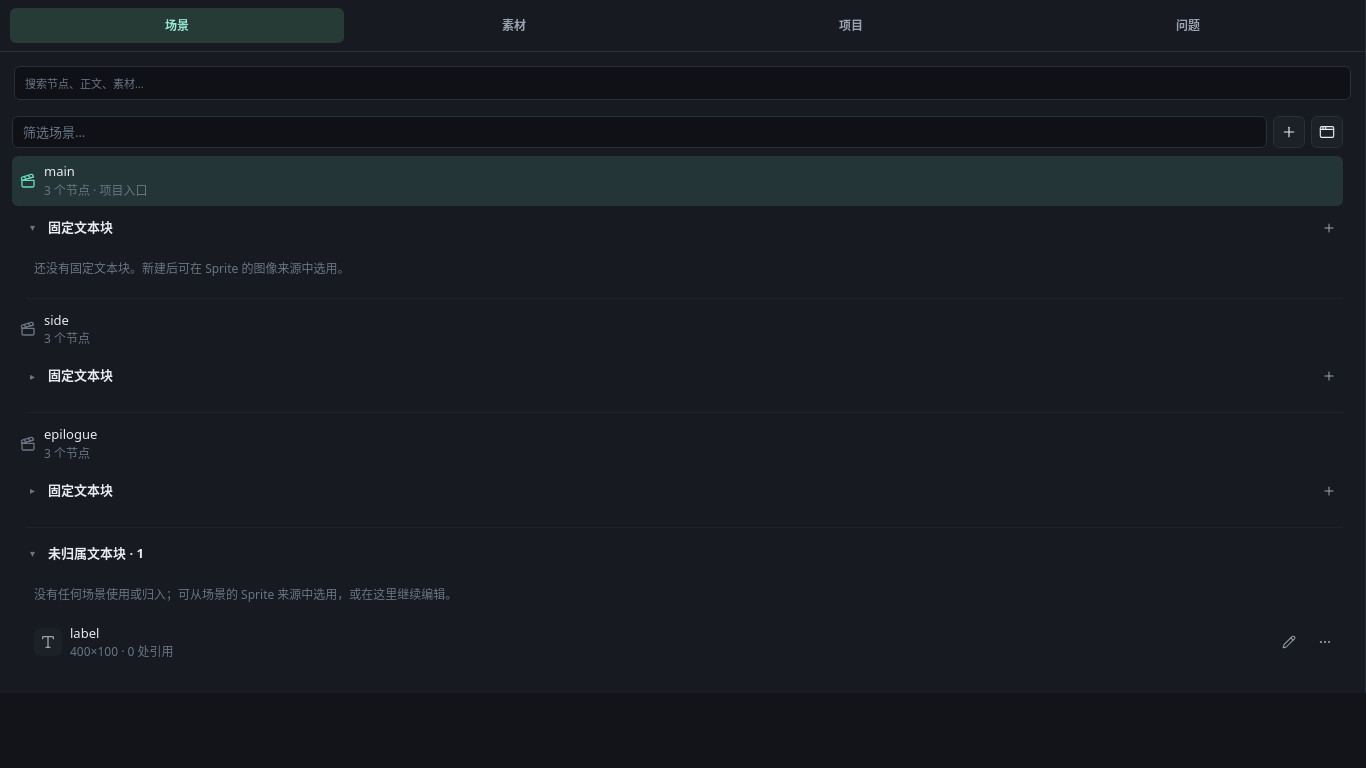
scene text block groups › creates a text from a scene's button through the validated dialog
Click the button named "在场景 side 新建固定文本块": [1329, 376] box [1315,362,1343,390]
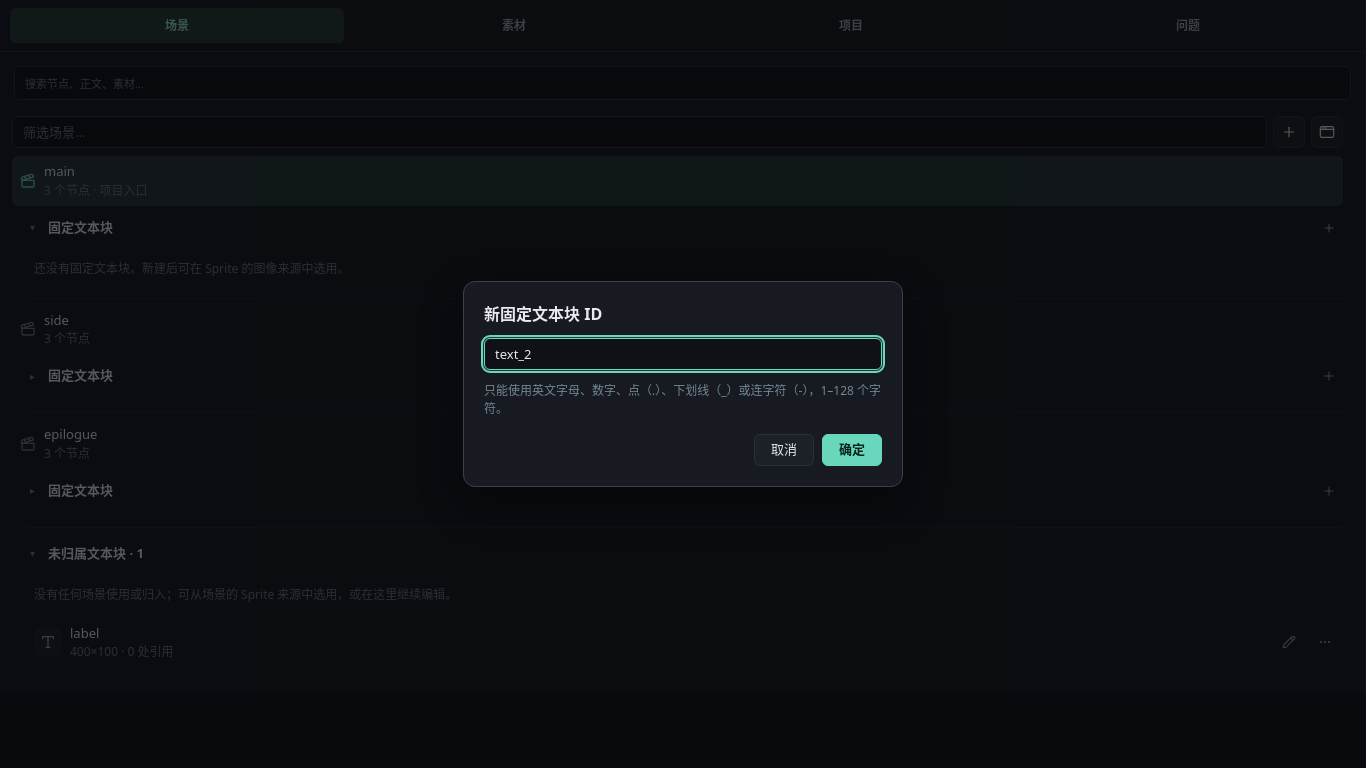
Expected: the field named "新固定文本块 ID" holds "text_2"
// An id owned by another resource is refused inline and nothing is created.
Replace the text in the field named "新固定文本块 ID" with "dot": [683, 354] box [484,338,882,370]
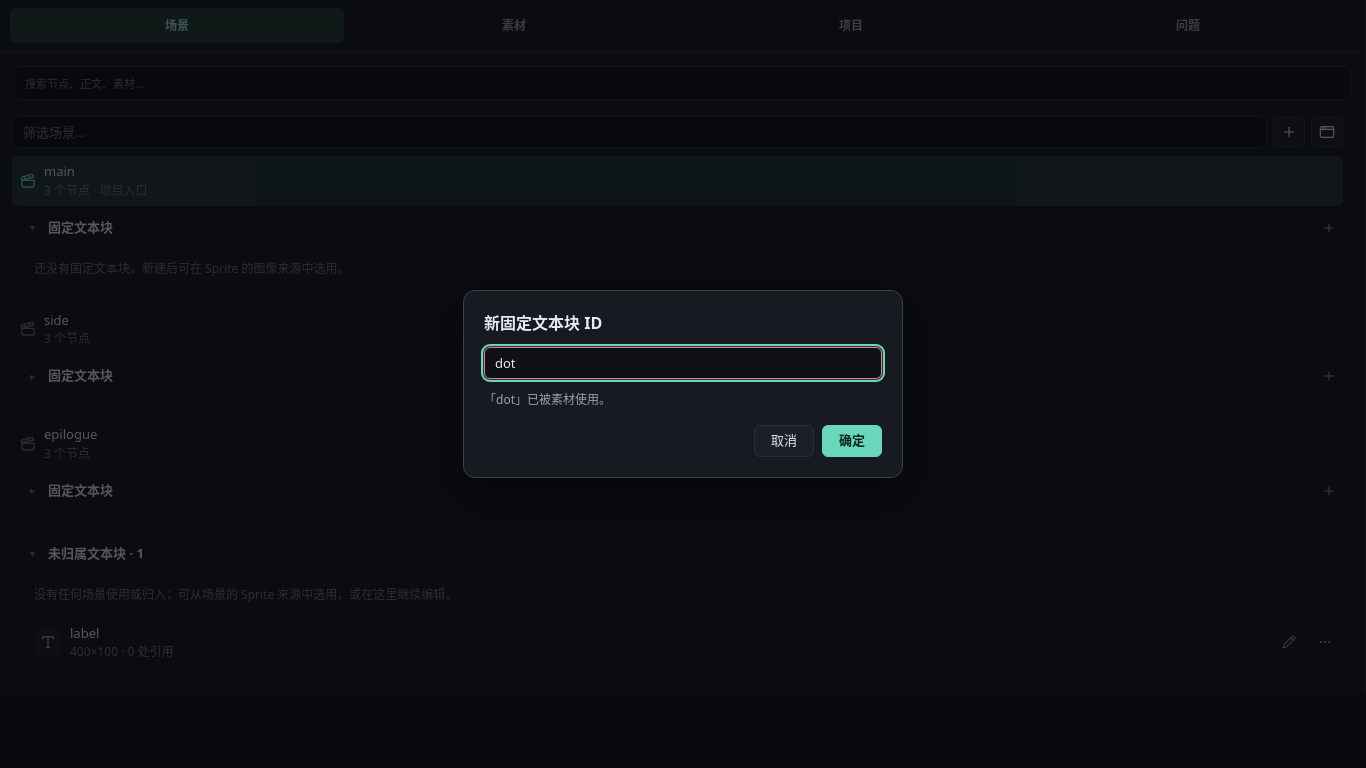
Expected: the message shows "已被素材使用", [484,391,611,408]
Submit the form "新固定文本块 ID", box [463,290,903,478]
Replace the text in the field named "新固定文本块 ID" with "side.title": [683, 363] box [484,347,882,379]
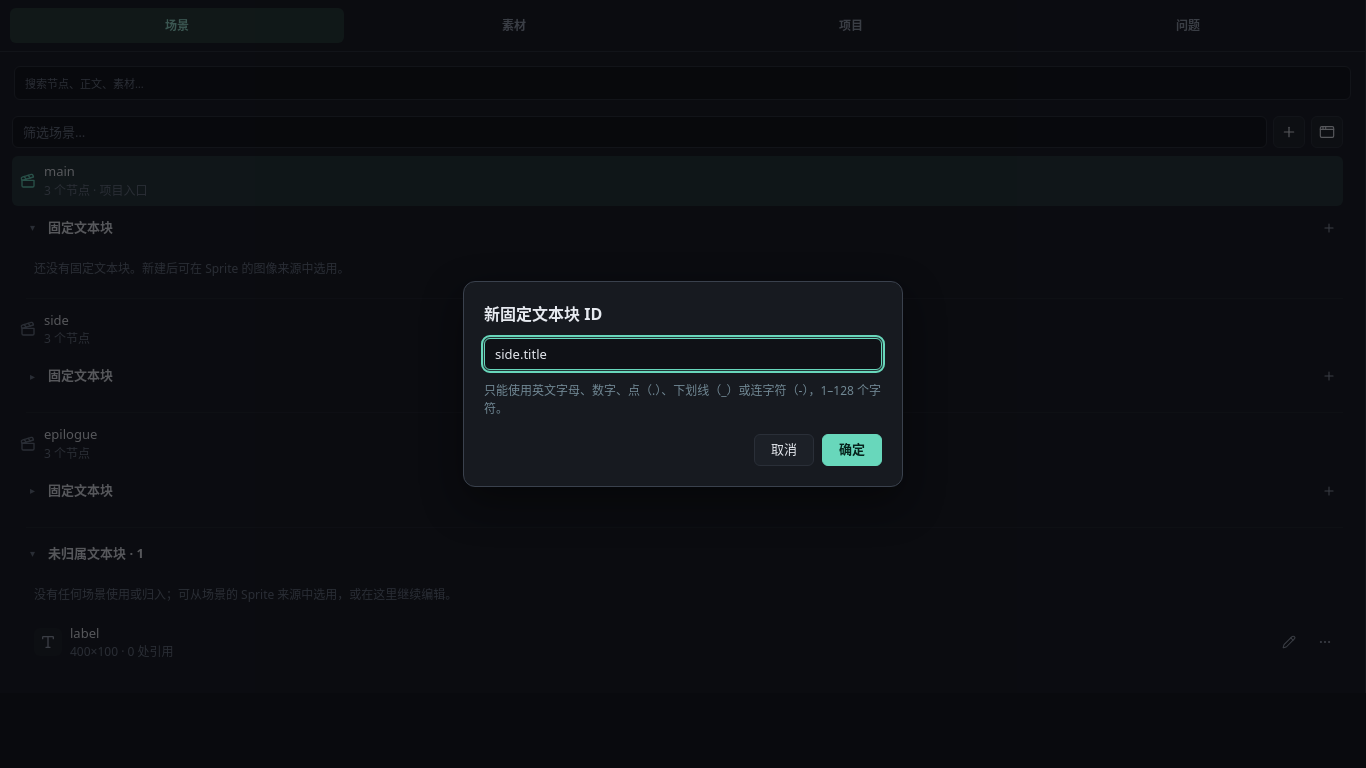
Submit the form "新固定文本块 ID", box [463,281,903,487]
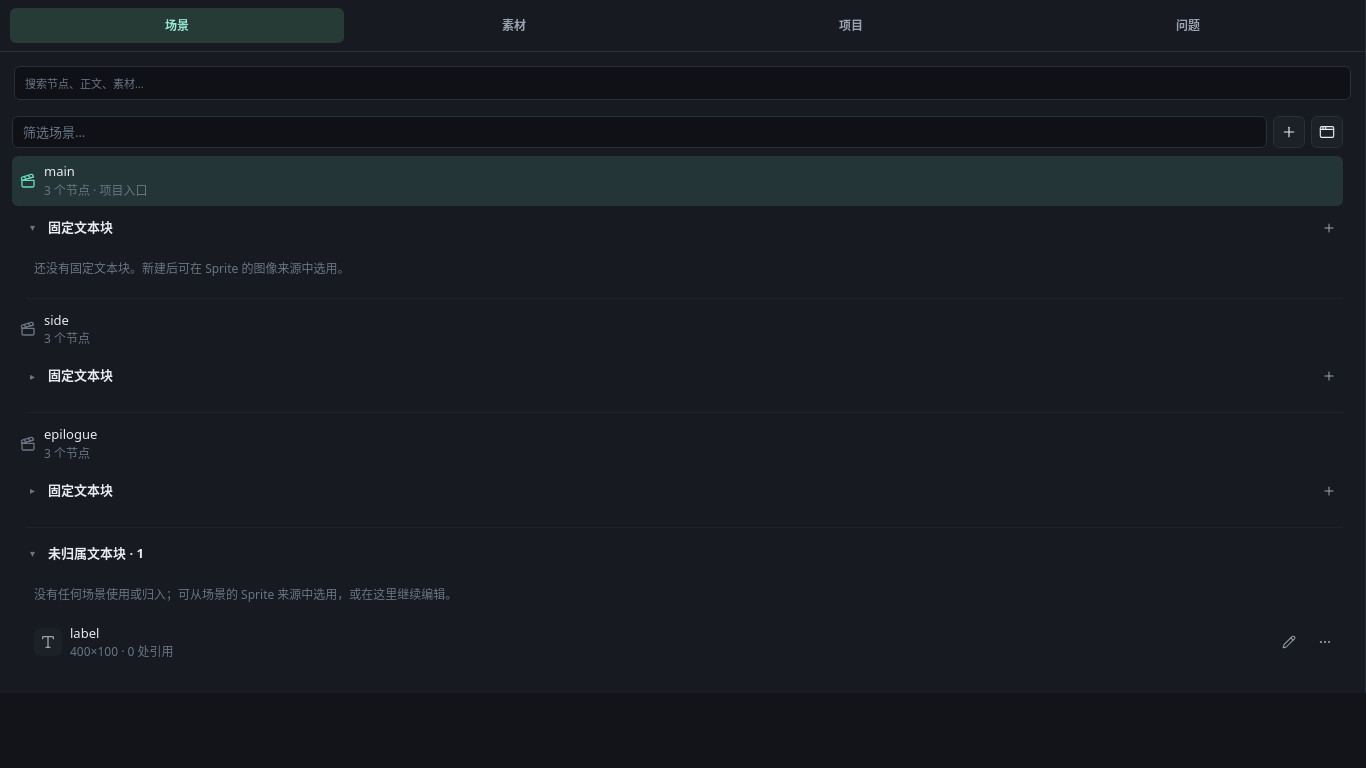
Expected: the heading "新固定文本块 ID" is gone
